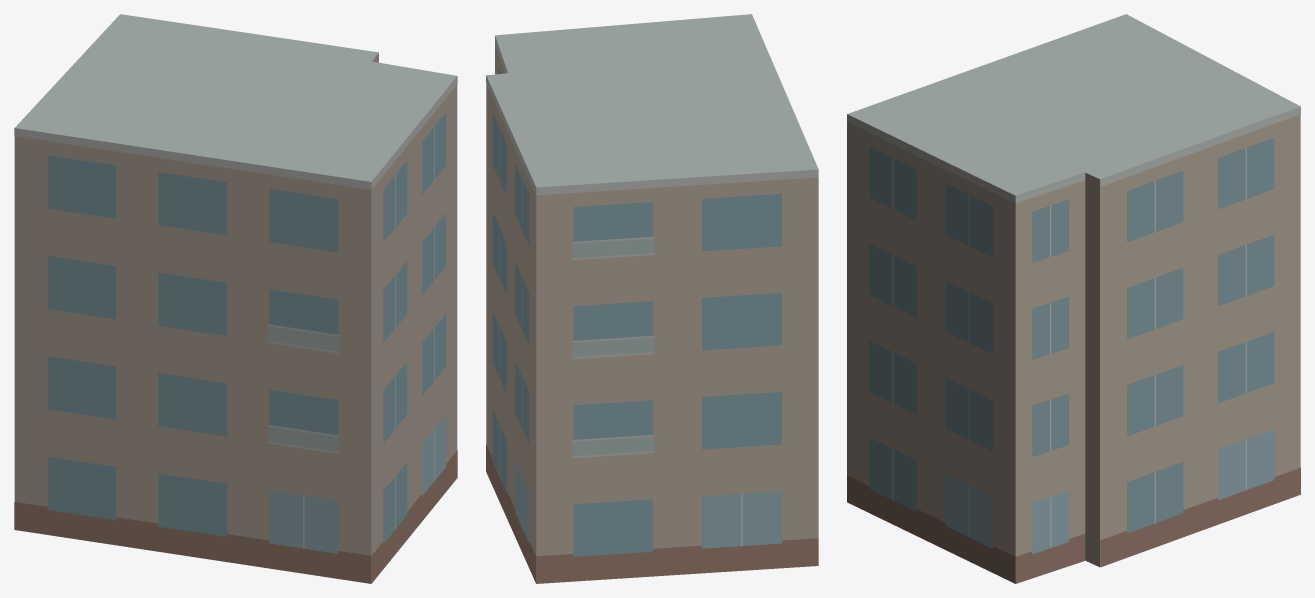
File: survey-upis-32774852.glb
The picture shows the model from 3 angles, left to right: view 1: azimuth 30°, elevation 25°; view 2: azimuth 150°, elevation 25°; view 3: azimuth 270°, elevation 25°; orthographic projection. The views are drawn at different scales.
Visible parts, largest first — view 1: survey-upis-32774852.tmp; view 2: survey-upis-32774852.tmp; view 3: survey-upis-32774852.tmp.
Boxes of the visible parts, x1,y1,x2,y2 form: survey-upis-32774852.tmp: (14, 14, 457, 583); survey-upis-32774852.tmp: (486, 14, 818, 583); survey-upis-32774852.tmp: (847, 14, 1300, 583).
Bounding box in the file's own units: 12.26 × 12.2 × 12.93.
